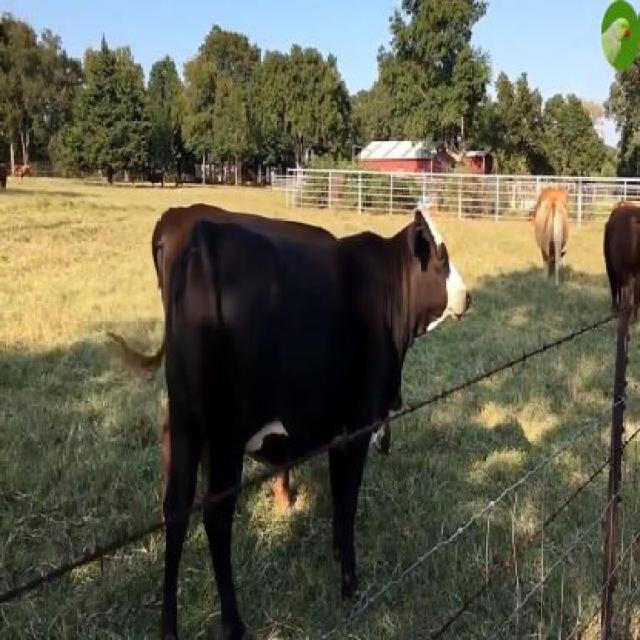Cow: (151, 203, 471, 639)
